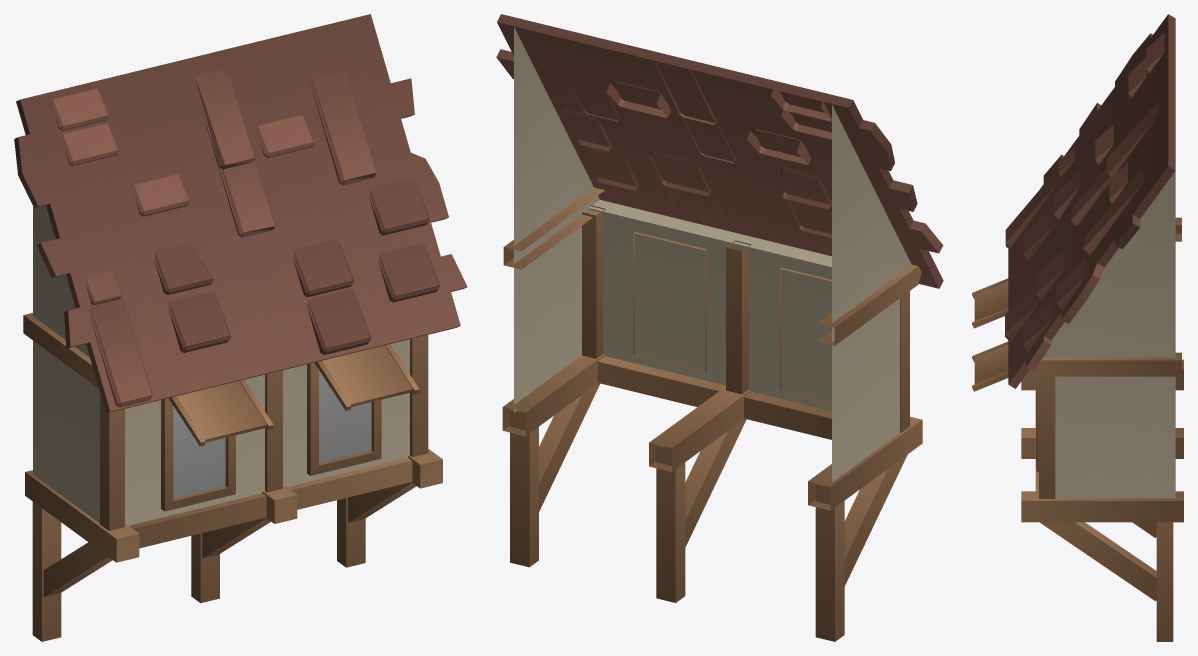
File: ZLP_Build_B_20.FBX
3 views of the same model, side by side, from view 1: azimuth 30°, elevation 25°; view 2: azimuth 150°, elevation 25°; view 3: azimuth 270°, elevation 25° (orthographic). The views are drawn at different scales.
Parts seen in each view (by area): view 1: ZLP_Build_B_20; view 2: ZLP_Build_B_20; view 3: ZLP_Build_B_20.
Boxes of the visible parts, x1=… form: ZLP_Build_B_20: x1=14, y1=14, x2=467, y2=641; ZLP_Build_B_20: x1=496, y1=14, x2=943, y2=641; ZLP_Build_B_20: x1=972, y1=14, x2=1183, y2=641.
Bounding box in the file's own units: 330 × 436 × 174.
